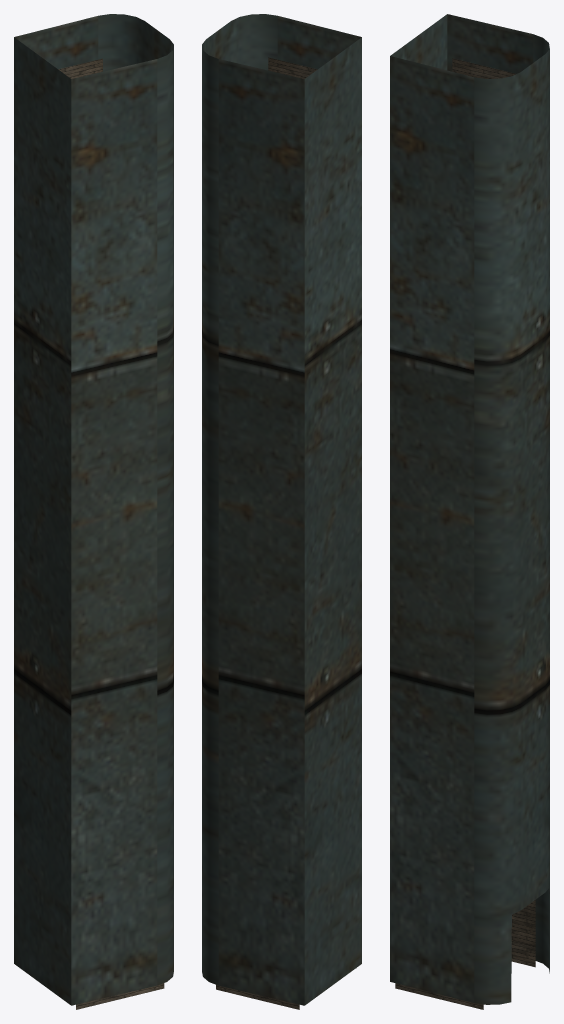
The model's file is Outside.fbx.
3 views of the same model, side by side, from view 1: azimuth 30°, elevation 25°; view 2: azimuth 150°, elevation 25°; view 3: azimuth 330°, elevation 25° (orthographic).
Visible parts, largest first — view 1: Outside; view 2: Outside; view 3: Outside.
Part boxes in pixels (x1,y1,x2,y2): Outside: [14, 14, 173, 1009]; Outside: [202, 14, 361, 1009]; Outside: [390, 14, 549, 1009].
Bounding box in the file's own units: 439 × 3414 × 392.
